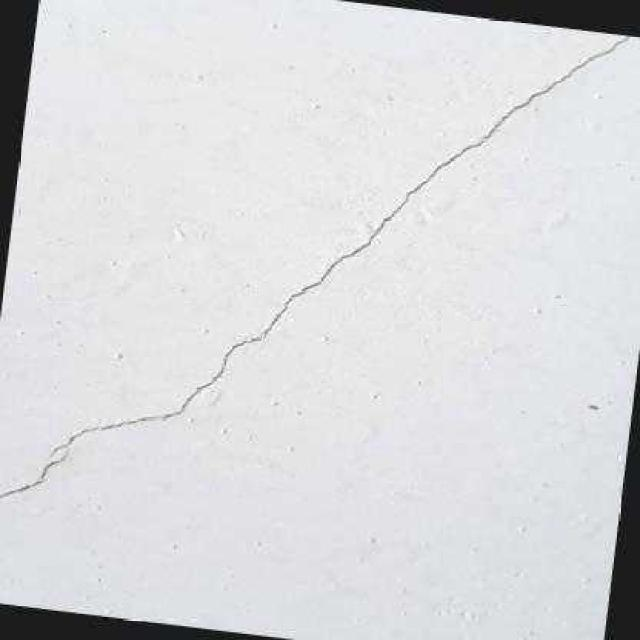D00: (46, 35, 628, 458), (0, 450, 67, 497)
